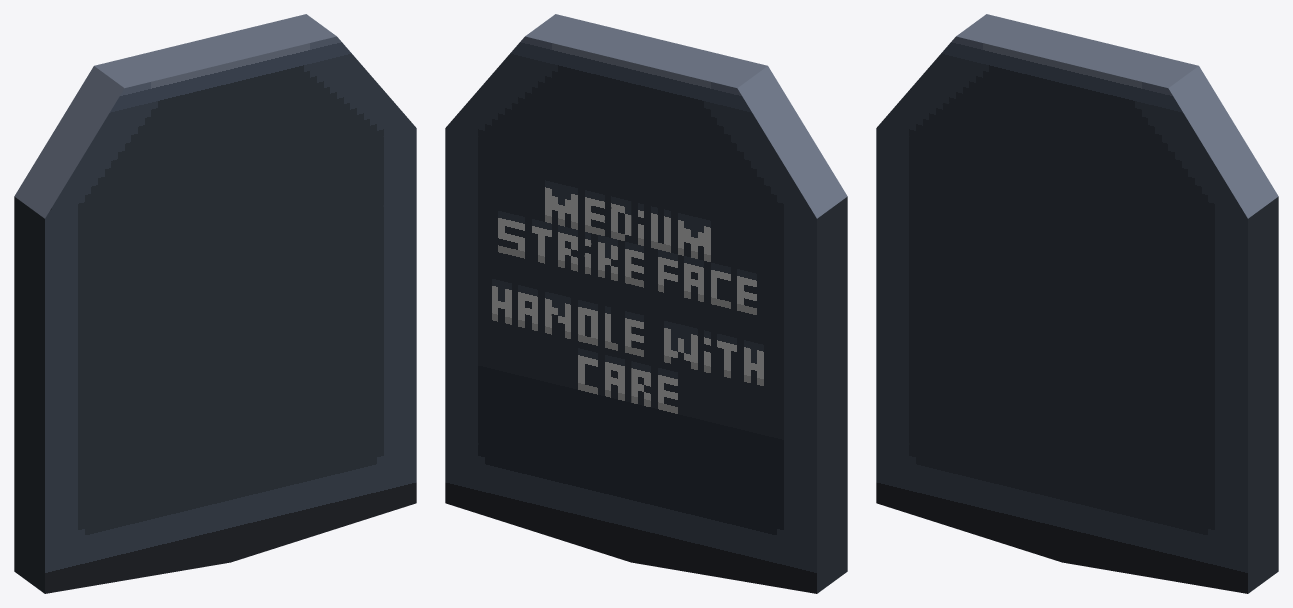
The model's file is armor-plate.gltf.
3 renders of one model, left to right at view 1: azimuth 30°, elevation 25°; view 2: azimuth 150°, elevation 25°; view 3: azimuth 330°, elevation 25°, orthographic.
Parts seen in each view (by area): view 1: cube; view 2: cube; view 3: cube.
Boxes of the visible parts, <box> form: cube: <box>14,14,416,593</box>; cube: <box>445,14,847,593</box>; cube: <box>876,14,1278,593</box>.
Bounding box in the file's own units: 0.875 × 1.12 × 0.125.
Materials: 1 (1 with a texture image).
